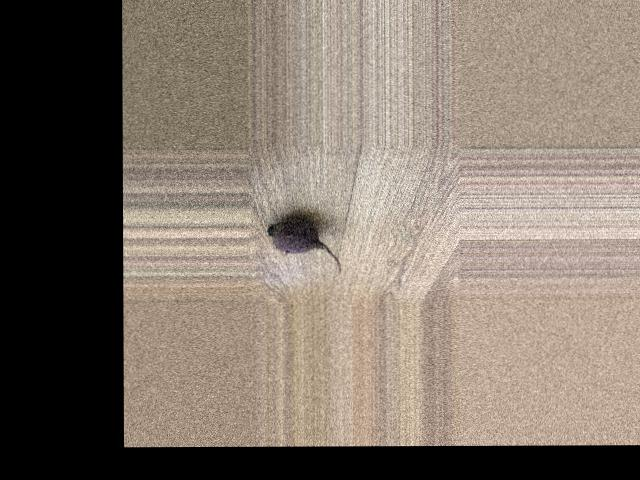beet: (268, 218, 343, 274)
